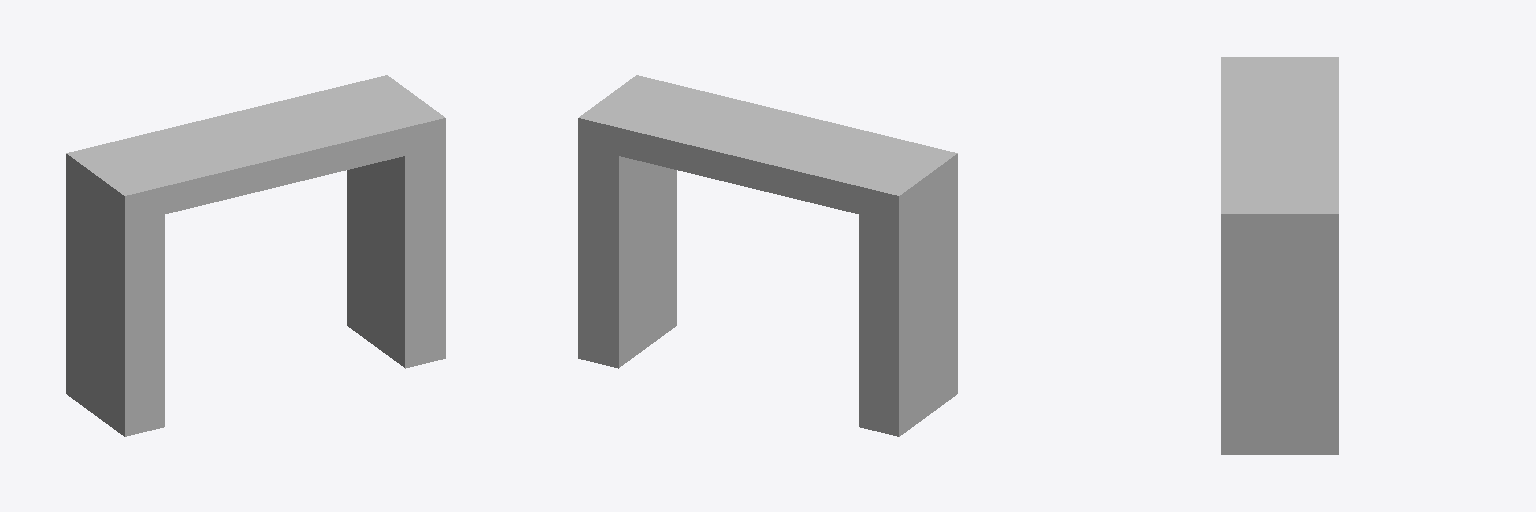
File: Gate Frame.obj
The picture shows the model from 3 angles: view 1: azimuth 30°, elevation 25°; view 2: azimuth 150°, elevation 25°; view 3: azimuth 270°, elevation 25°; orthographic projection.
Visible parts, largest first — view 1: Gate Frame; view 2: Gate Frame; view 3: Gate Frame.
Part boxes in pixels (left/top/right/bottom): Gate Frame: left=66, top=75, right=445, bottom=436; Gate Frame: left=578, top=75, right=957, bottom=436; Gate Frame: left=1221, top=57, right=1338, bottom=454.
Bounding box in the file's own units: 5.96 × 4.27 × 1.88.